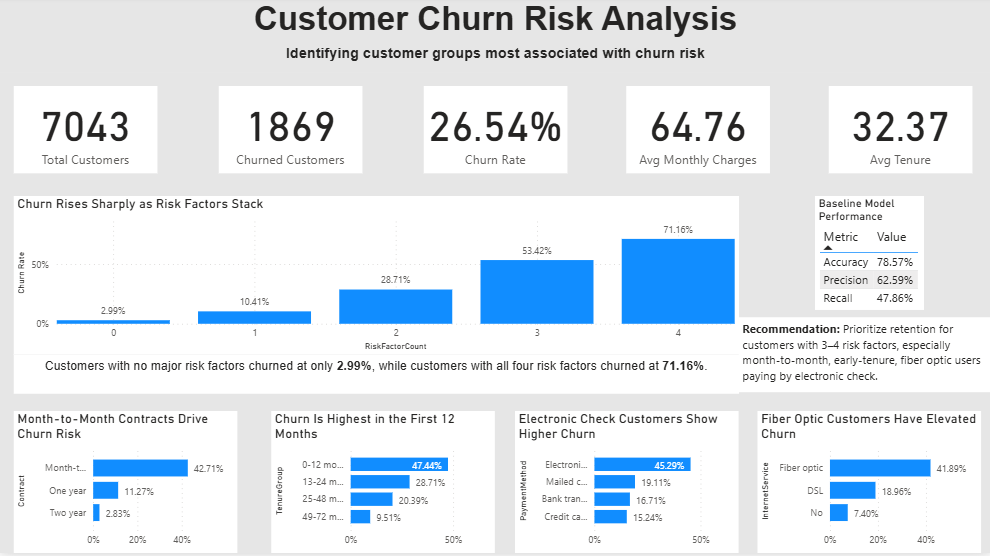

What the dashboard file says about the page in this screenshot:
{"tool":"powerbi","page":{"name":"Page 1","canvas":[1280,720],"ordinal":0},"visuals":[{"type":"textbox","box":[0,0,1280.3,67.2],"z":0},{"type":"textbox","box":[0,57.6,1280.3,41.2],"z":1000},{"type":"card","fields":{"Values":["telco_churn_cleaned_model_ready.Total Customers"]},"box":[17.8,116.2,185.7,113],"z":2000},{"type":"card","fields":{"Values":["telco_churn_cleaned_model_ready.Churned Customers"]},"box":[282.5,116.2,185.7,113],"z":3000},{"type":"card","fields":{"Values":["telco_churn_cleaned_model_ready.Churn Rate"]},"box":[547.3,116.2,185.7,113],"z":4000},{"type":"card","fields":{"Values":["telco_churn_cleaned_model_ready.Avg Monthly Charges"]},"box":[808.9,116.2,185.7,113],"z":5000},{"type":"card","fields":{"Values":["telco_churn_cleaned_model_ready.Avg Tenure"]},"box":[1070.4,116.2,185.7,113],"z":6000},{"type":"clusteredColumnChart","title":"Churn Rises Sharply as Risk Factors Stack","fields":{"Category":["telco_churn_cleaned_model_ready.RiskFactorCount"],"Y":["telco_churn_cleaned_model_ready.Churn Rate"]},"box":[17.8,258.3,936.4,205],"z":7000},{"type":"textbox","box":[17.8,463.4,936.4,50.1],"z":8000},{"type":"clusteredBarChart","title":"Month-to-Month Contracts Drive Churn Risk","fields":{"Y":["telco_churn_cleaned_model_ready.Churn Rate"],"Category":["telco_churn_cleaned_model_ready.Contract"]},"box":[17.8,536,289,184.1],"z":9000},{"type":"clusteredBarChart","title":"Churn Is Highest in the First 12 Months","fields":{"Category":["telco_churn_cleaned_model_ready.TenureGroup"],"Y":["telco_churn_cleaned_model_ready.Churn Rate"]},"box":[350.4,536,289,184.1],"z":10000},{"type":"clusteredBarChart","title":"Electronic Check Customers Show Higher Churn","fields":{"Category":["telco_churn_cleaned_model_ready.PaymentMethod"],"Y":["telco_churn_cleaned_model_ready.Churn Rate"]},"box":[665.2,536,289,184.1],"z":11000},{"type":"clusteredBarChart","title":"Fiber Optic Customers Have Elevated Churn","fields":{"Category":["telco_churn_cleaned_model_ready.InternetService"],"Y":["telco_churn_cleaned_model_ready.Churn Rate"]},"box":[978.4,536,289,184.1],"z":12000},{"type":"tableEx","title":"Baseline Model Performance ","fields":{"Values":["Baseline Model Performance.Column1","Baseline Model Performance.Column2"]},"box":[1052.7,258.3,140.5,146.9],"z":13000},{"type":"textbox","box":[954.2,413.3,326.1,98.5],"z":14001}]}

Visuals, with their boxes in screenshot pixels (x1, y1, x2, y2), scaled from the page's 1280x720 canvas onto the 990x556 screenshot:
textbox: 0/0/989/52
textbox: 0/44/989/76
card - telco_churn_cleaned_model_ready.Total Customers: 14/90/157/177
card - telco_churn_cleaned_model_ready.Churned Customers: 218/90/362/177
card - telco_churn_cleaned_model_ready.Churn Rate: 423/90/567/177
card - telco_churn_cleaned_model_ready.Avg Monthly Charges: 626/90/769/177
card - telco_churn_cleaned_model_ready.Avg Tenure: 828/90/972/177
"Churn Rises Sharply as Risk Factors Stack" clusteredColumnChart: 14/199/738/358
textbox: 14/358/738/397
"Month-to-Month Contracts Drive Churn Risk" clusteredBarChart: 14/414/237/555
"Churn Is Highest in the First 12 Months" clusteredBarChart: 271/414/495/555
"Electronic Check Customers Show Higher Churn" clusteredBarChart: 514/414/738/555
"Fiber Optic Customers Have Elevated Churn" clusteredBarChart: 757/414/980/555
"Baseline Model Performance " tableEx: 814/199/923/313
textbox: 738/319/989/395
